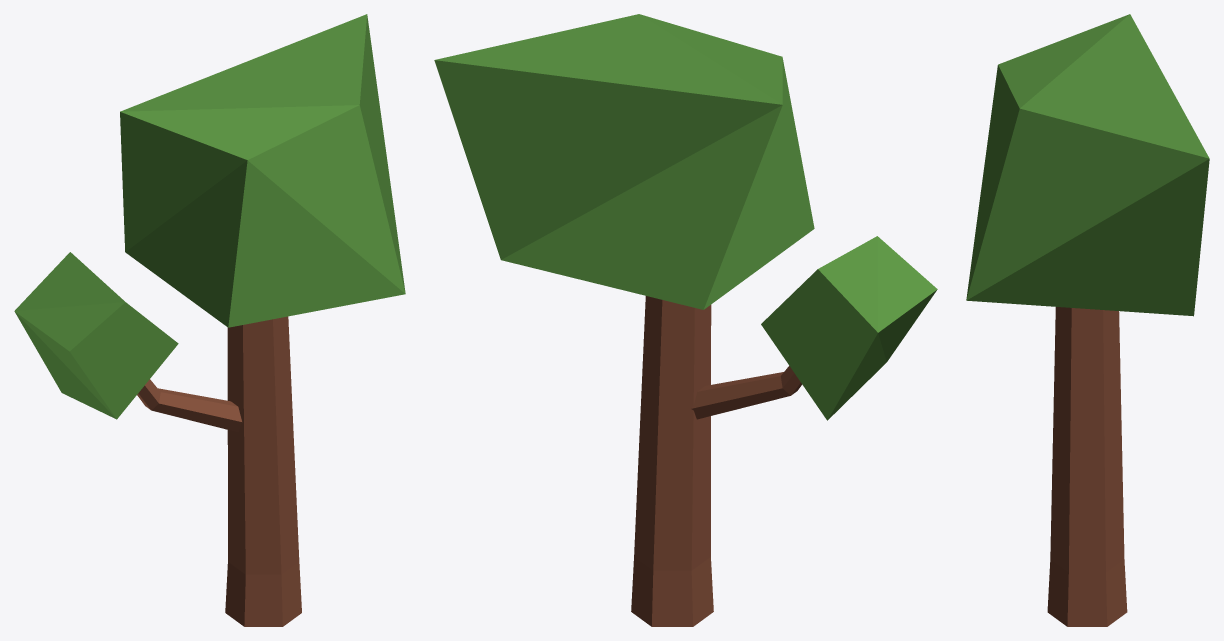
The model's file is Tree_45_summer_mat.fbx.
3 renders of one model, left to right at view 1: azimuth 30°, elevation 25°; view 2: azimuth 150°, elevation 25°; view 3: azimuth 270°, elevation 25°, orthographic. The views are drawn at different scales.
Visible parts, largest first — view 1: Tree_45_summer_mat; view 2: Tree_45_summer_mat; view 3: Tree_45_summer_mat.
Part boxes in pixels (bbox=[...]): Tree_45_summer_mat: bbox=[14, 14, 405, 626]; Tree_45_summer_mat: bbox=[434, 14, 937, 626]; Tree_45_summer_mat: bbox=[966, 14, 1209, 626].
Size of the model in its own units: 139 by 179 by 73.58.
